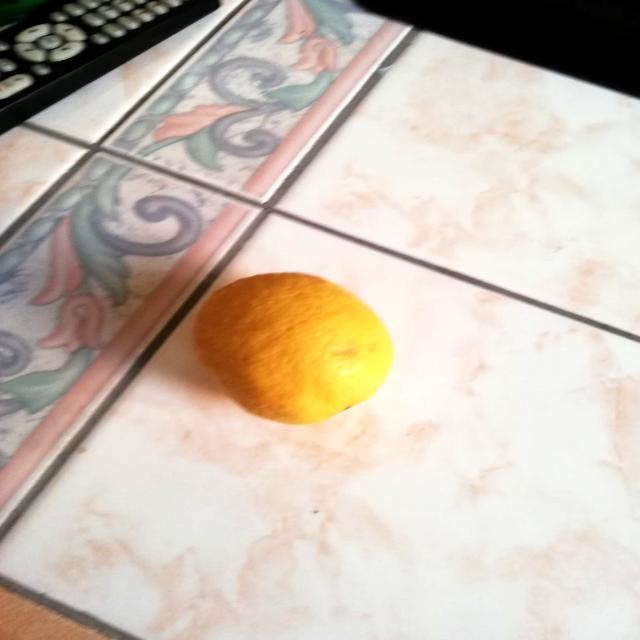lemon: (187, 263, 403, 430)
